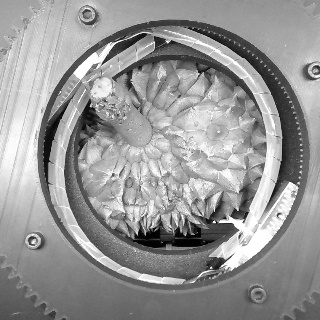base: (121, 123, 157, 153)
end: (90, 76, 113, 99)
